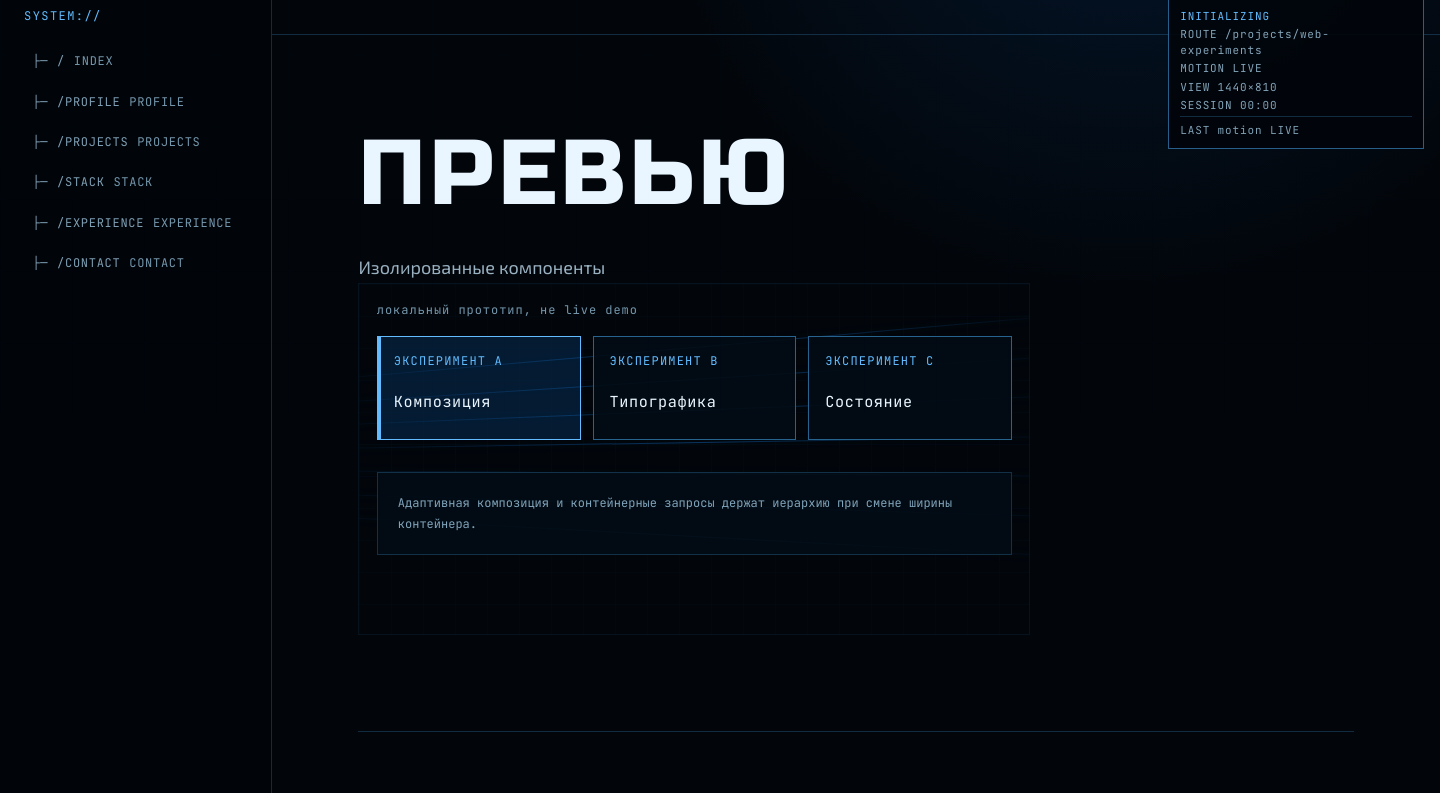
Test case: project routes › lets the keyboard switch Web Experiments hypotheses
This screenshot has width=1440, height=793.
(page scrolled)
Check: the text "локальный прототип, не live demo" is shown, box [377, 302, 638, 318]
Click the button "Эксперимент B Типографика": (694, 388) [592, 336, 796, 440]
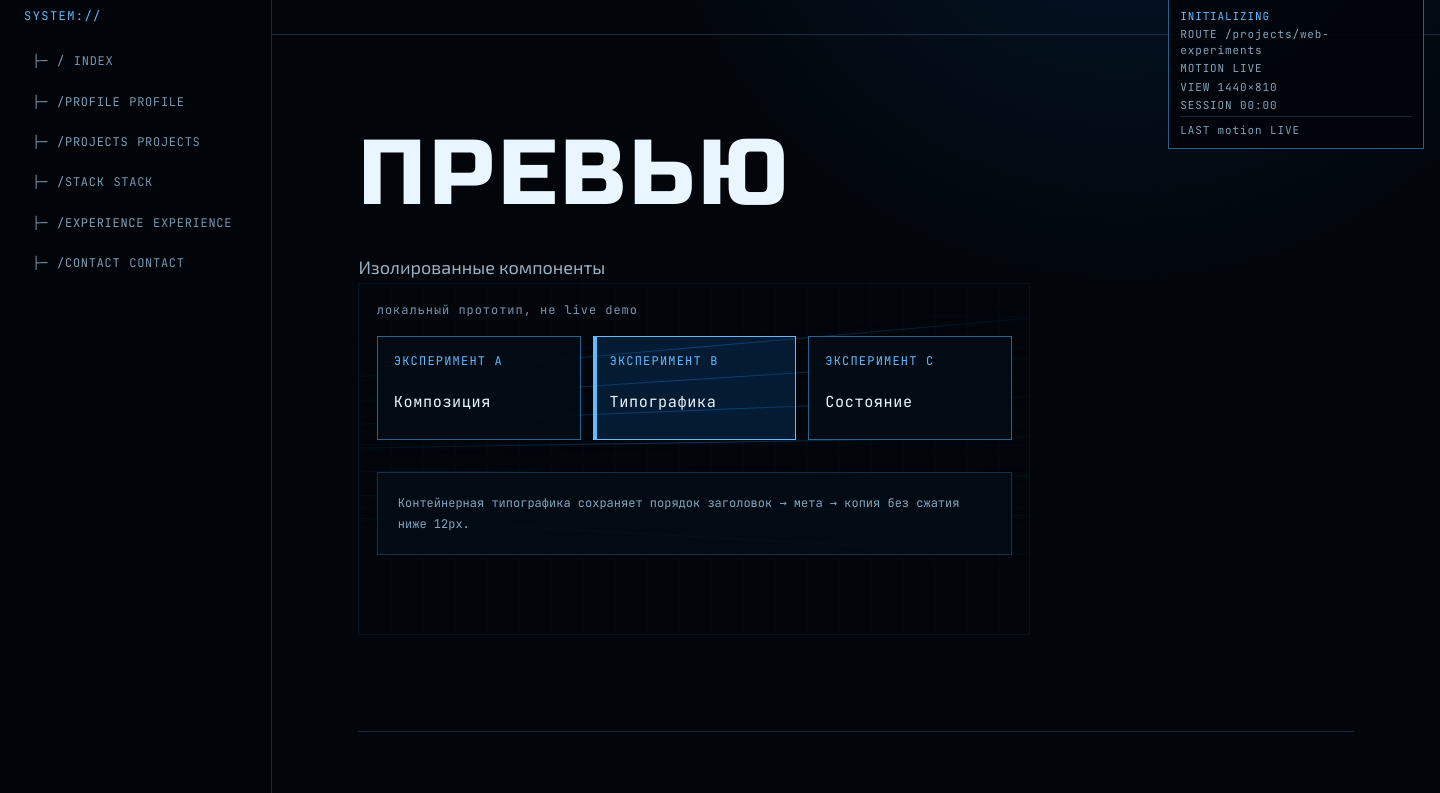
Check: the element that starts with "локальный прототип, не live demo" is shown, box [358, 283, 1030, 635]
Check: the text "Контейнерная типографика" is shown, box [398, 495, 960, 532]
